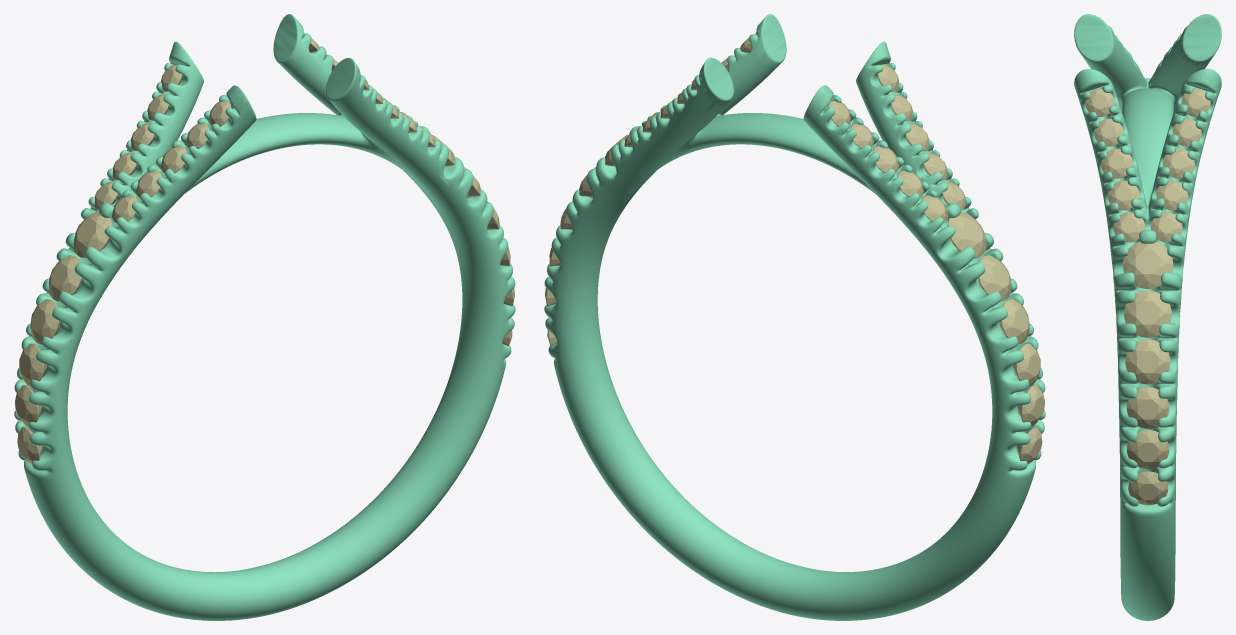
3 views of the same model, side by side, from view 1: azimuth 30°, elevation 25°; view 2: azimuth 150°, elevation 25°; view 3: azimuth 270°, elevation 25° (orthographic).
Visible parts, largest first — view 1: Metal02, Diamond_Gem.021, Diamond_Gem.020, Diamond_Gem, Diamond_Gem.019, Diamond_Gem.018; view 2: Metal02, Diamond_Gem.021, Diamond_Gem.020, Diamond_Gem, Diamond_Gem.019, Diamond_Gem.018; view 3: Metal02, Diamond_Gem.011, Diamond_Gem.012, Diamond_Gem.013, Diamond_Gem.014, Diamond_Gem.015, Diamond_Gem.016, Diamond_Gem.008, Diamond_Gem.005, Diamond_Gem.010, Diamond_Gem.006, Diamond_Gem.007 (+5 smaller).
Part boxes in pixels (x1,y1,x2,y2): Metal02: [14, 14, 515, 620]; Diamond_Gem.021: [73, 211, 112, 258]; Diamond_Gem.020: [48, 255, 81, 301]; Diamond_Gem: [30, 299, 60, 344]; Diamond_Gem.019: [19, 343, 46, 386]; Diamond_Gem.018: [15, 385, 42, 426]; Metal02: [544, 14, 1045, 620]; Diamond_Gem.021: [947, 211, 986, 258]; Diamond_Gem.020: [978, 255, 1011, 301]; Diamond_Gem: [999, 299, 1029, 344]; Diamond_Gem.019: [1013, 343, 1040, 386]; Diamond_Gem.018: [1017, 385, 1044, 426]; Metal02: [1074, 14, 1221, 620]; Diamond_Gem.011: [1123, 241, 1173, 288]; Diamond_Gem.012: [1124, 290, 1171, 337]; Diamond_Gem.013: [1125, 339, 1170, 384]; Diamond_Gem.014: [1126, 387, 1169, 428]; Diamond_Gem.015: [1127, 429, 1169, 468]; Diamond_Gem.016: [1128, 471, 1168, 505]; Diamond_Gem.008: [1101, 148, 1132, 178]; Diamond_Gem.005: [1151, 212, 1182, 242]; Diamond_Gem.010: [1113, 212, 1145, 242]; Diamond_Gem.006: [1156, 180, 1188, 210]; Diamond_Gem.007: [1163, 148, 1194, 178].
Bounding box in the file's own units: 20.99 × 23.05 × 5.57.
